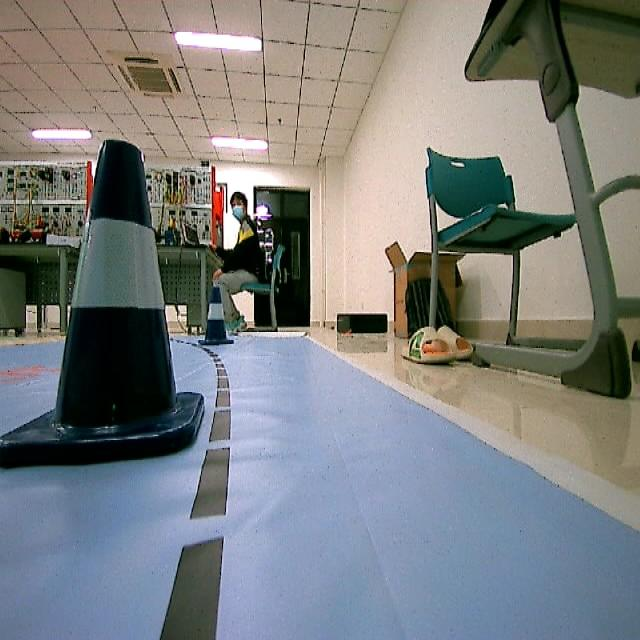obstacle: (0, 138, 187, 470), (194, 285, 237, 347)
